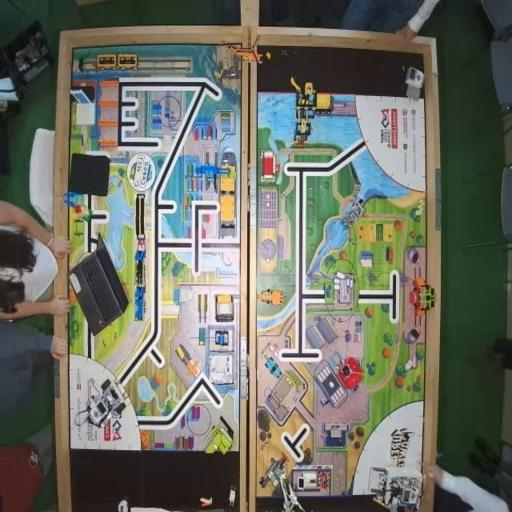lego_robot: (75, 377, 126, 431), (368, 467, 423, 512)
